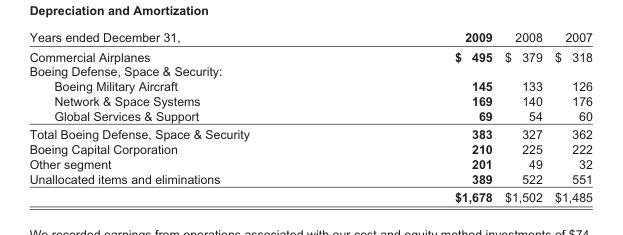table: (28, 29, 591, 203)
table column: (28, 29, 351, 203), (351, 29, 497, 203), (497, 29, 547, 203), (547, 29, 591, 203)
table column header: (28, 29, 591, 46)
table projected row header: (28, 63, 591, 78)
table row: (28, 29, 591, 46), (28, 46, 591, 63), (28, 107, 591, 124), (28, 124, 591, 141), (28, 170, 591, 187), (28, 187, 591, 203), (28, 63, 591, 78), (28, 78, 591, 93), (28, 141, 591, 156), (28, 93, 591, 107), (28, 156, 591, 170)
